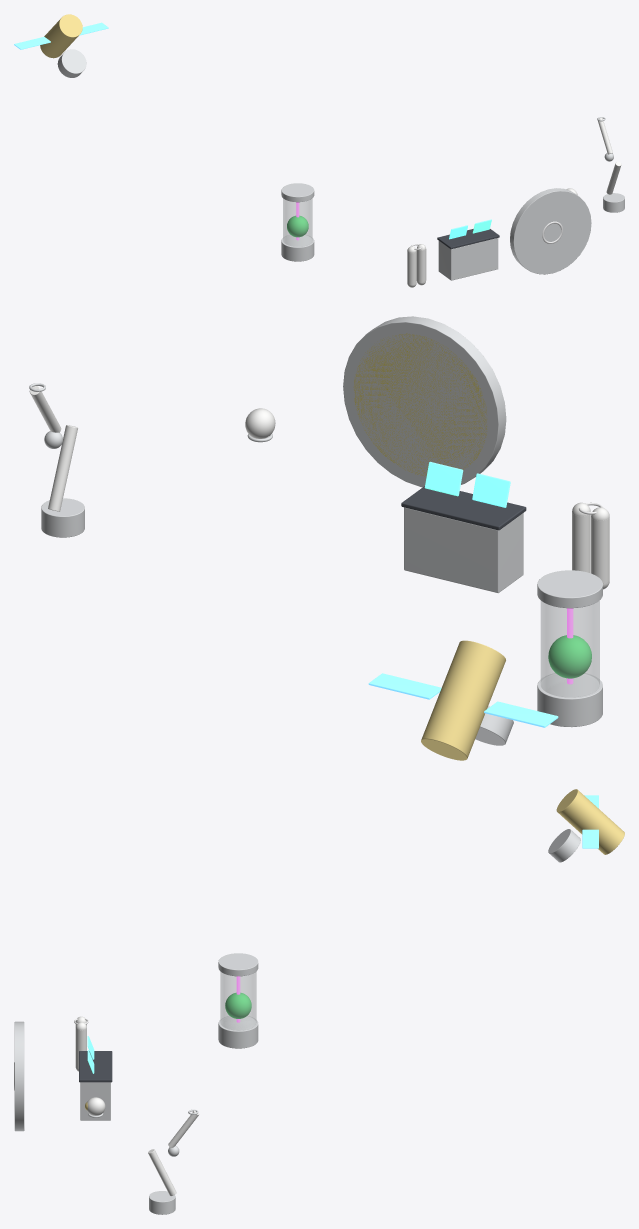
Rendered from space.glb.
3 views of the same model, one above another, from view 1: azimuth 30°, elevation 25°; view 2: azimuth 150°, elevation 25°; view 3: azimuth 270°, elevation 25° (orthographic). The views are drawn at different scales.
Parts seen in each view (by area): view 1: Airlock_Door, Control_Console, Hydroponic_Pod, Space_Telescope, Robotic_Arm, Oxygen_Tank; view 2: Airlock_Door, Control_Console, Hydroponic_Pod, Space_Telescope, Robotic_Arm, Oxygen_Tank, Astronaut_Helmet; view 3: Hydroponic_Pod, Space_Telescope, Control_Console, Robotic_Arm, Airlock_Door.
Part boxes in pixels (x1=…): Airlock_Door: x1=510, y1=188, x2=591, y2=274; Control_Console: x1=437, y1=219, x2=499, y2=280; Hydroponic_Pod: x1=281, y1=183, x2=314, y2=261; Space_Telescope: x1=14, y1=14, x2=108, y2=77; Robotic_Arm: x1=597, y1=117, x2=624, y2=212; Oxygen_Tank: x1=407, y1=244, x2=426, y2=287; Airlock_Door: x1=343, y1=316, x2=506, y2=487; Control_Console: x1=401, y1=461, x2=526, y2=593; Hydroponic_Pod: x1=537, y1=570, x2=602, y2=727; Space_Telescope: x1=368, y1=640, x2=558, y2=760; Robotic_Arm: x1=29, y1=383, x2=84, y2=537; Oxygen_Tank: x1=572, y1=502, x2=609, y2=589; Astronaut_Helmet: x1=245, y1=408, x2=275, y2=442; Hydroponic_Pod: x1=218, y1=953, x2=258, y2=1048; Space_Telescope: x1=548, y1=789, x2=624, y2=862; Control_Console: x1=79, y1=1036, x2=112, y2=1120; Robotic_Arm: x1=148, y1=1109, x2=199, y2=1214; Airlock_Door: x1=14, y1=1021, x2=24, y2=1131.
Size of what is drawn, in the model's own units: 12.68 by 4.52 by 12.83.
